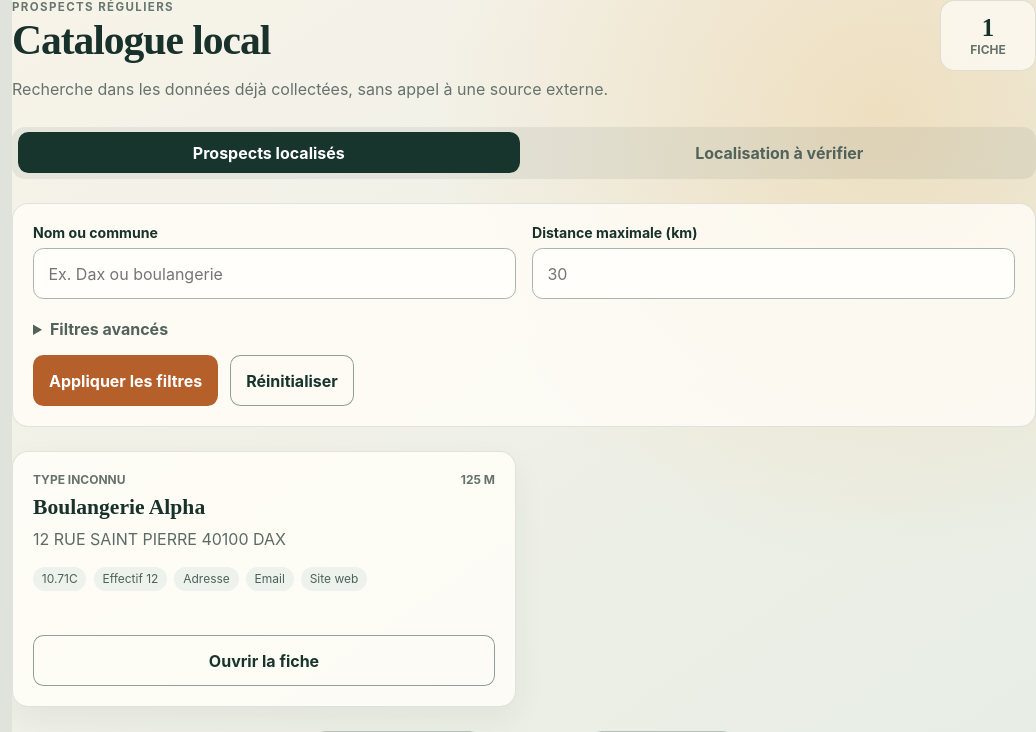
Test: prospect catalogue › opens a detailed fiche with identity and provenance
This screenshot has width=1036, height=732.
expect the heading "Boulangerie Alpha" is shown: met, box x1=33 y1=494 x2=205 y2=518
Click the button with aria-label "Ouvrir la fiche Boulangerie Alpha" at (264, 661), box x1=33 y1=635 x2=495 y2=686
(page scrolled)
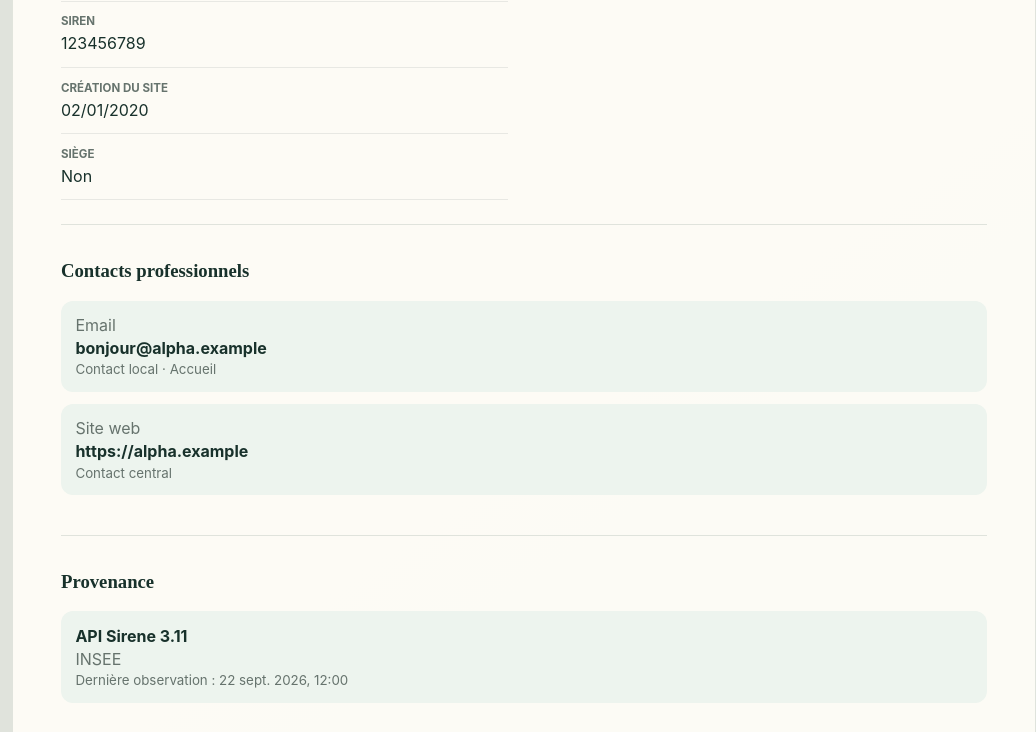
expect the text "bonjour@alpha.example" is shown: met, box x1=75 y1=338 x2=267 y2=358
expect the text "Contact local · Accueil" is shown: met, box x1=75 y1=361 x2=216 y2=377
expect the text "API Sirene 3.11" is shown: met, box x1=75 y1=626 x2=187 y2=646
